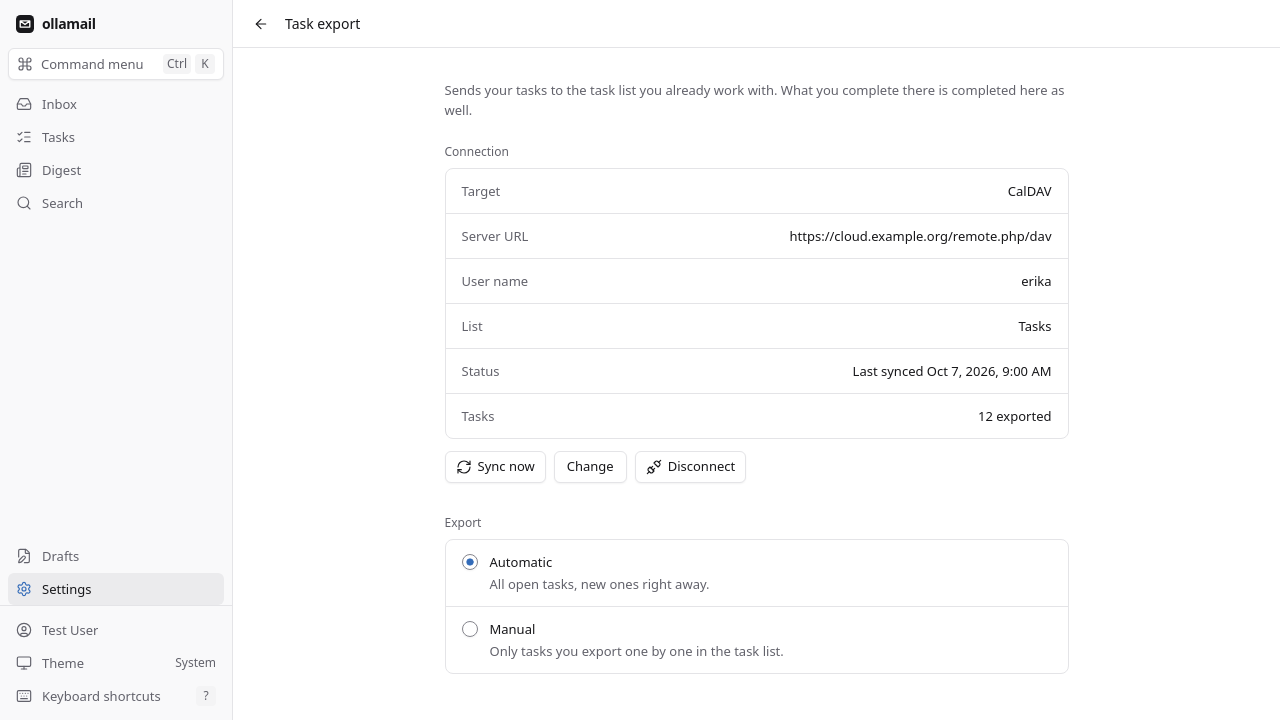
Test: task export settings › changes the mode, syncs and disconnects
Expected: the heading "Task export" is shown, [285,14,360,34]
Click the radio button named "manual" next to "Manual" at (470, 629), box [462,621,478,637]
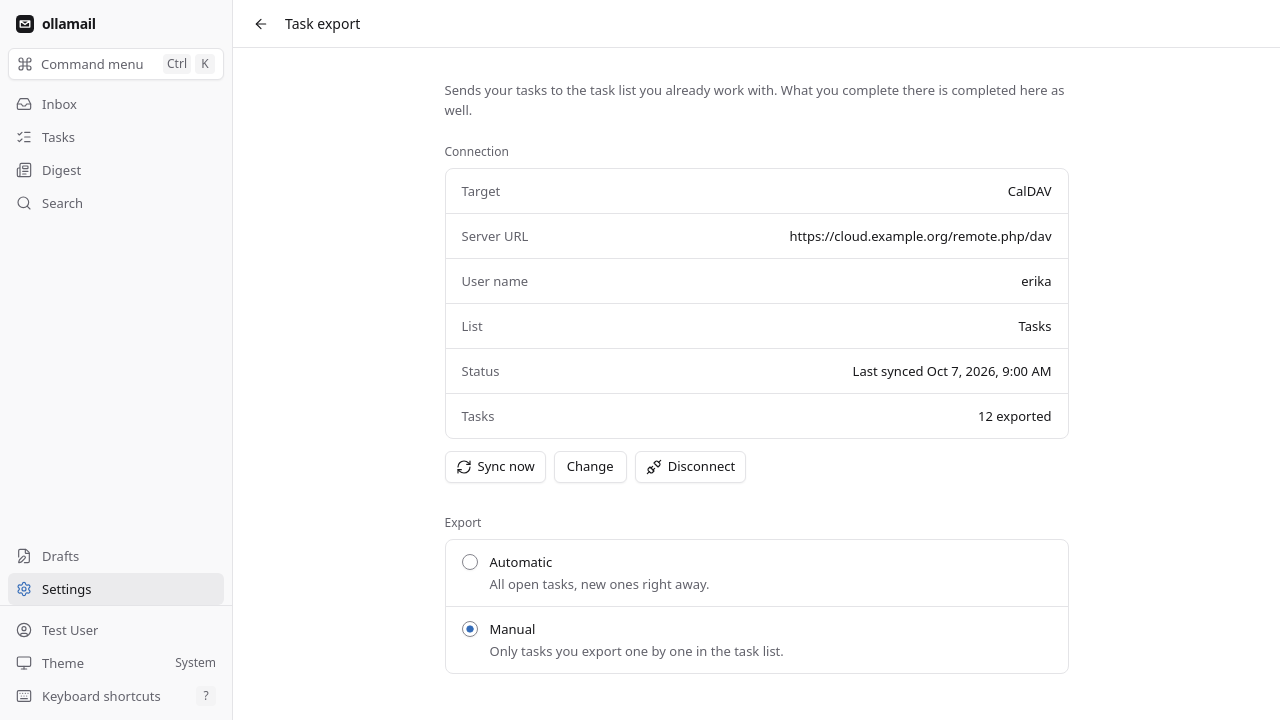
Now the radio button named "manual" next to "Manual" is checked, box [462,621,478,637]
Click the button "Sync now" at (495, 467), box [444,451,546,483]
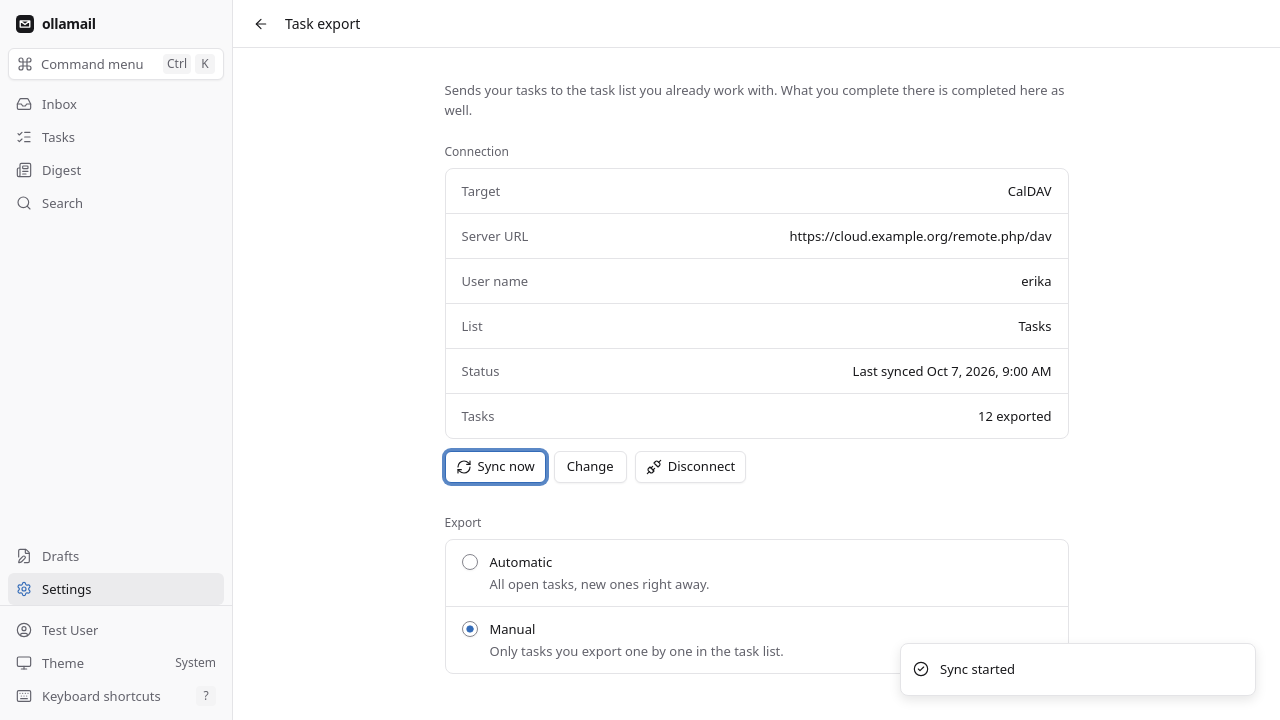
Click the button "Disconnect" at (690, 467), box [635,451,746,483]
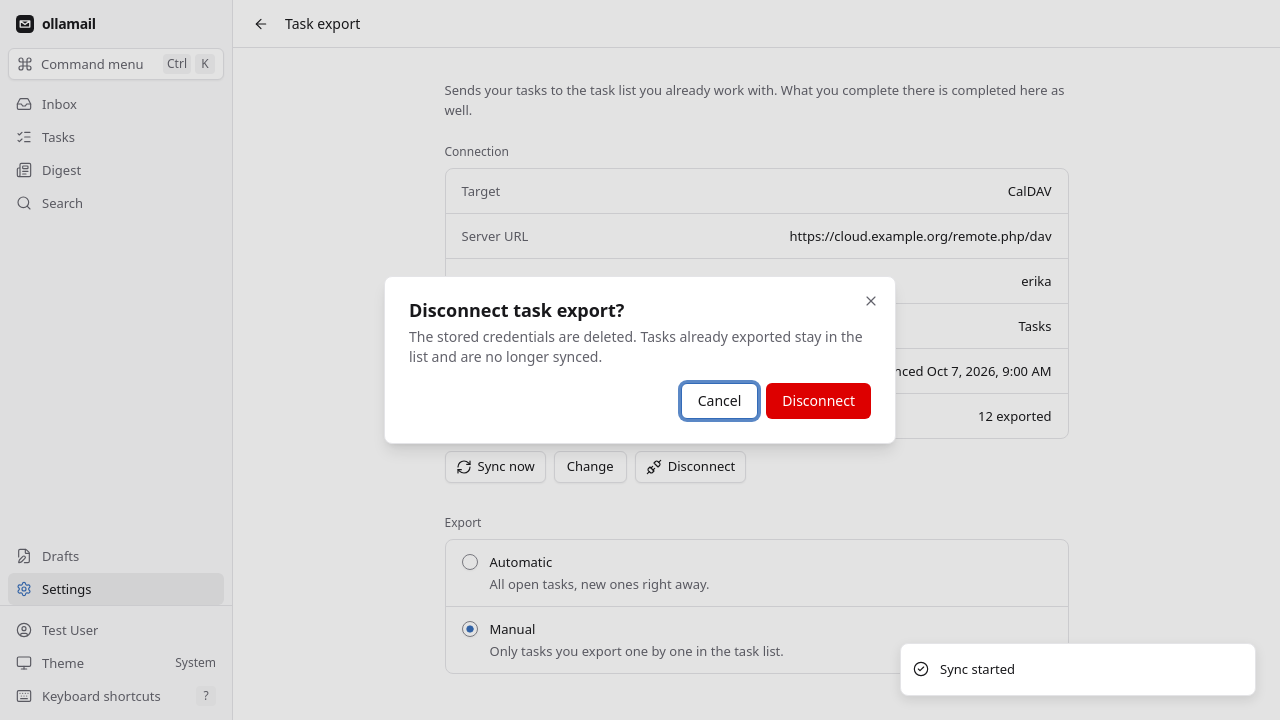
Now the dialog shows "tasks already exported stay in the list", box [409,327,863,366]
Click the button "Disconnect" at (819, 401), box [766,383,871,419]
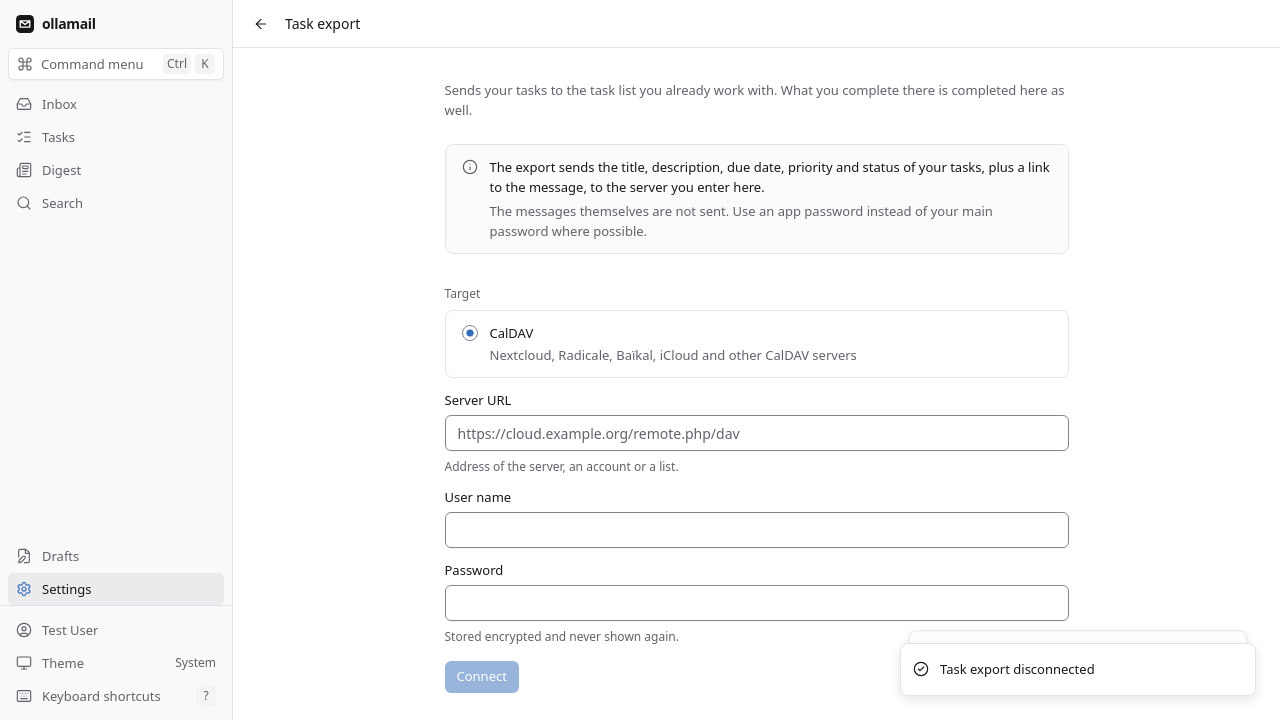
Now the field labelled "Server URL" is shown, box [444,415,1068,451]
